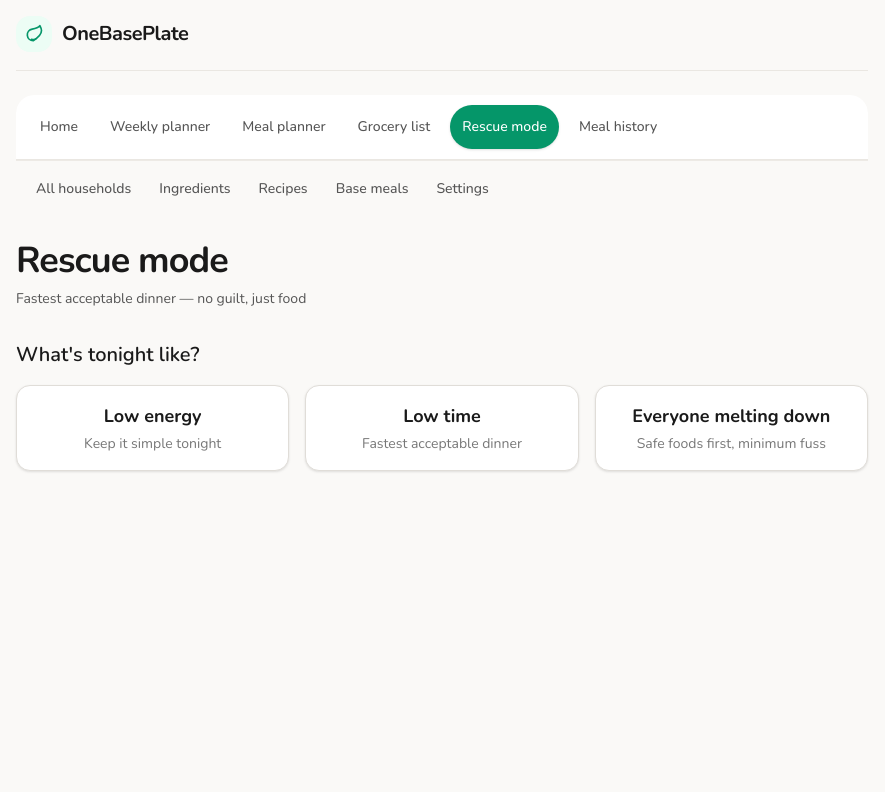
Test case: F012: Add to tonight and add to week › can add a rescue meal to tonight
Click the button with test id "scenario-low-time": (442, 428) top-left (305, 385), bottom-right (579, 471)
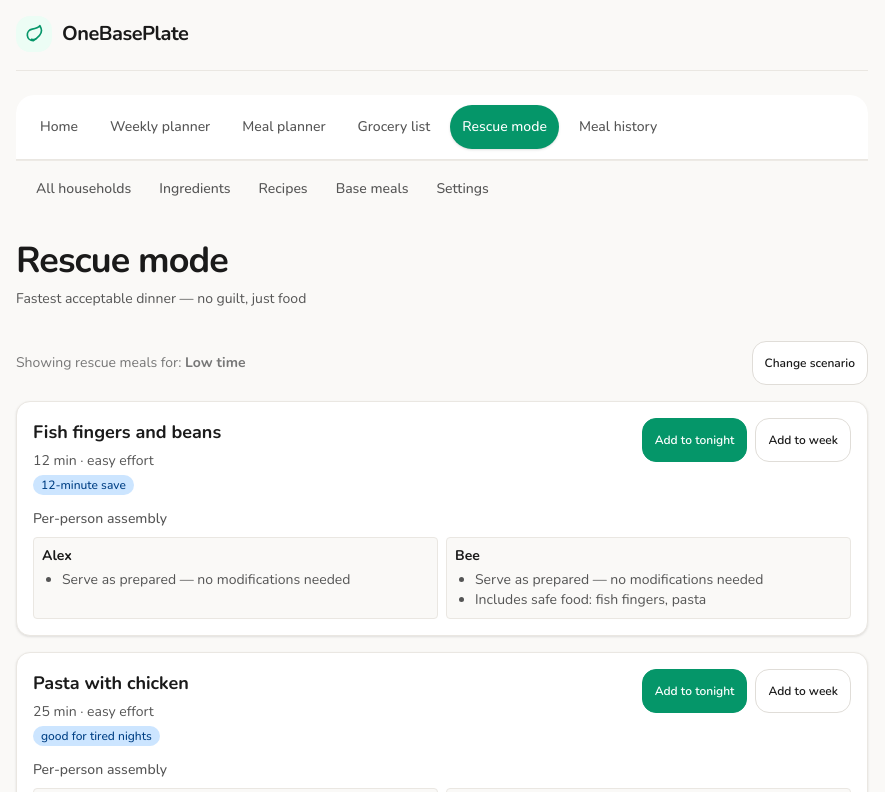
Click the button with test id "add-tonight-meal-fishfingers": (695, 440) top-left (642, 418), bottom-right (747, 462)
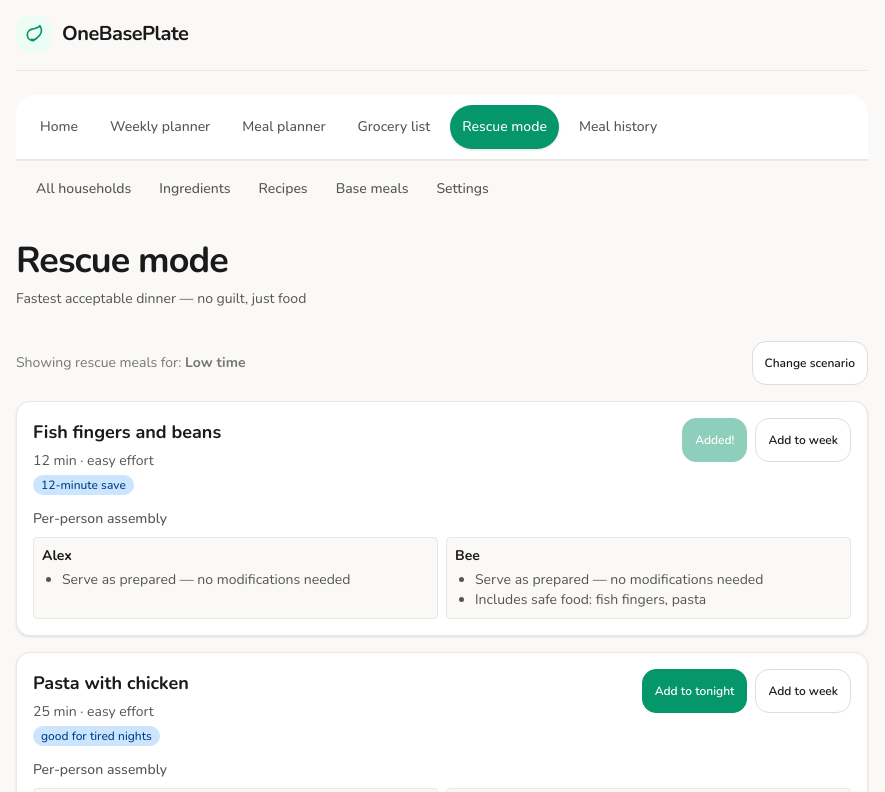
Result: the button with test id "add-tonight-meal-fishfingers" reads "Added!" at top-left (682, 418), bottom-right (747, 462)
